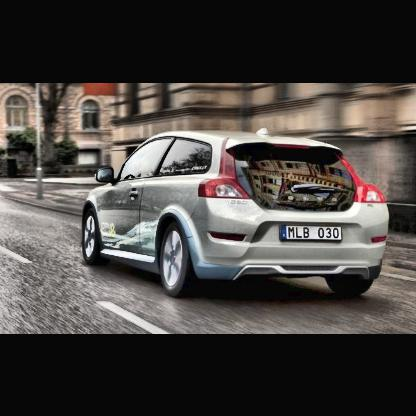Volvo C30 Hatchback 2012: (75, 129, 393, 300)
